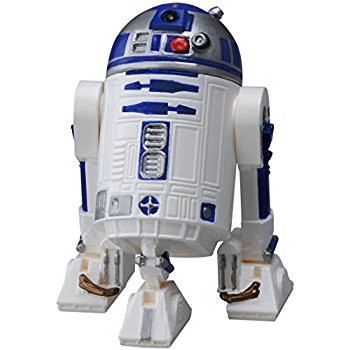r2d2: (58, 3, 293, 347)
